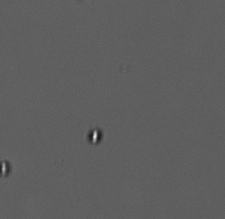Living Cell: (86, 127, 104, 146), (1, 158, 10, 178)
